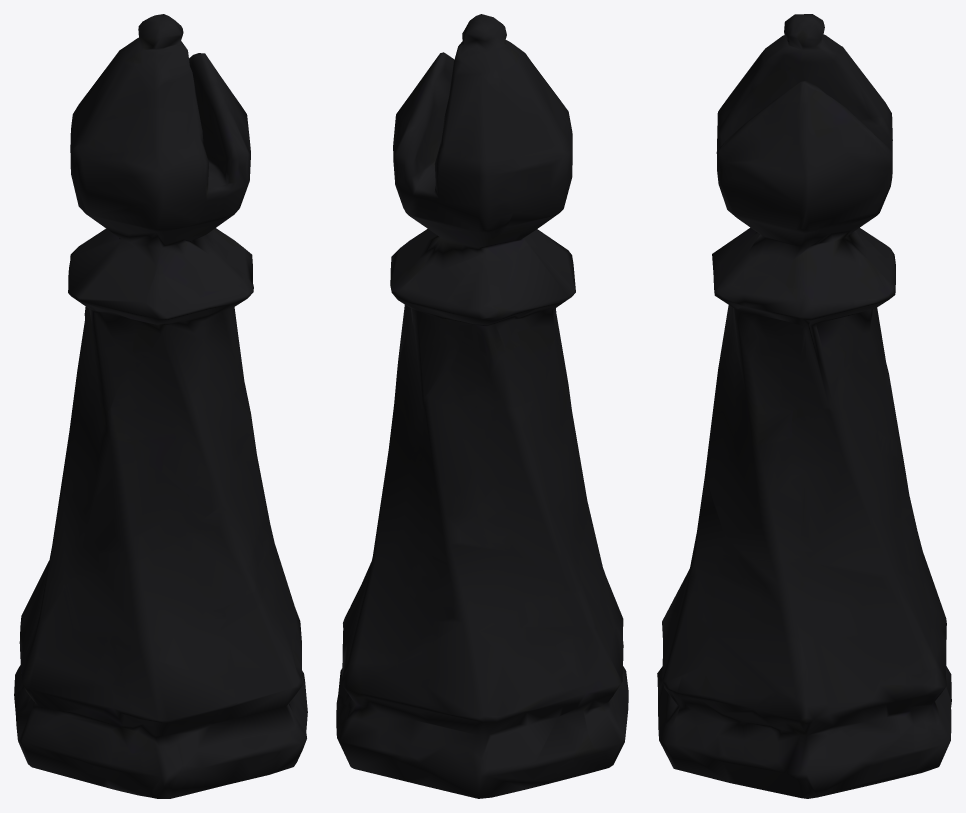
Rendered from hexa_bishop_black.glb.
The picture shows the model from 3 angles, left to right: view 1: azimuth 30°, elevation 25°; view 2: azimuth 150°, elevation 25°; view 3: azimuth 270°, elevation 25°; orthographic projection.
Bounding box in the file's own units: 0.8214 × 2 × 0.7413.
Materials: 1 (1 with a texture image).
